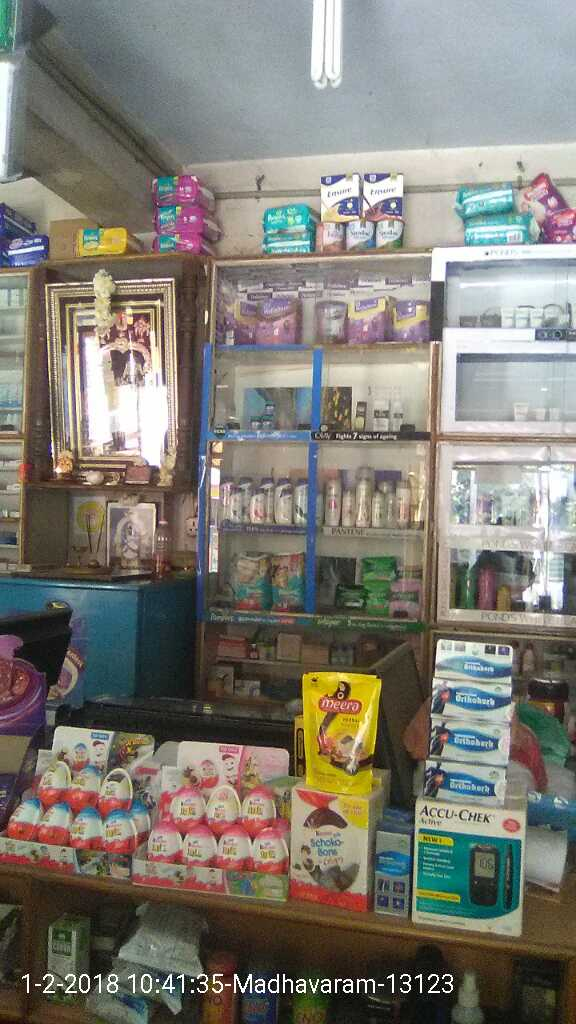vicks: (251, 401, 278, 429)
